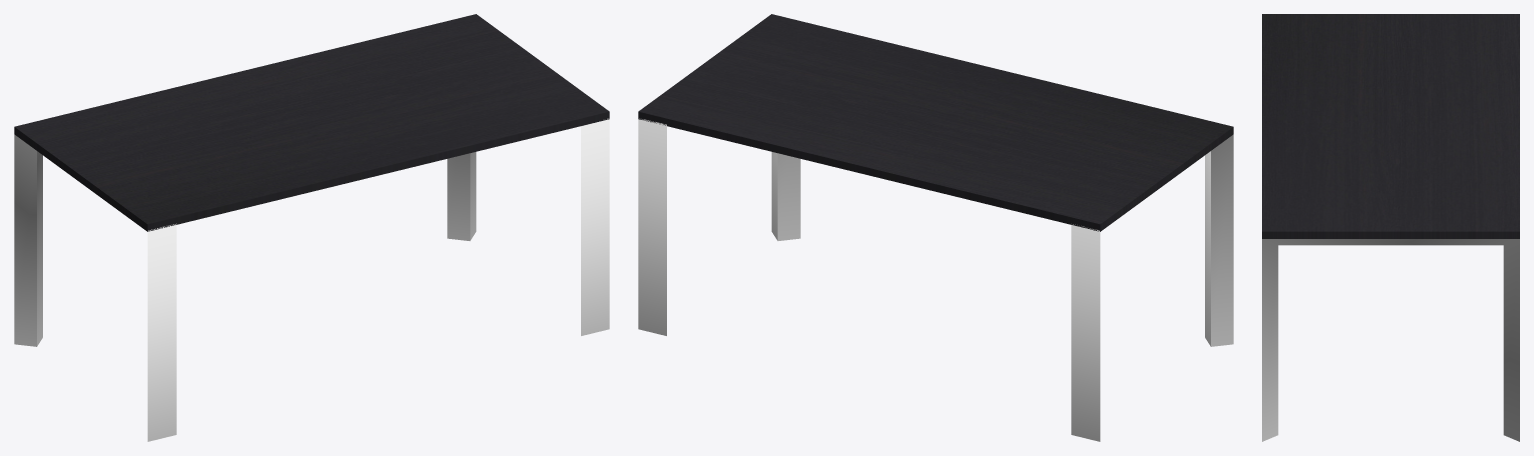
File: sweethome3d-lucapresidente-desk.glb
3 views of the same model, side by side, from view 1: azimuth 30°, elevation 25°; view 2: azimuth 150°, elevation 25°; view 3: azimuth 270°, elevation 25° (orthographic). The views are drawn at different scales.
Parts seen in each view (by area): view 1: Box34_4, Loft01_2, Loft02_1; view 2: Box34_4, Loft01_2, Loft02_1; view 3: Box34_4, Loft02_1.
Part boxes in pixels (left/top/right/bottom): Box34_4: left=14, top=14, right=609, bottom=231; Loft01_2: left=14, top=134, right=176, bottom=441; Loft02_1: left=447, top=118, right=609, bottom=335; Box34_4: left=638, top=14, right=1233, bottom=231; Loft01_2: left=1071, top=134, right=1233, bottom=441; Loft02_1: left=638, top=118, right=800, bottom=335; Box34_4: left=1262, top=14, right=1519, bottom=238; Loft02_1: left=1262, top=239, right=1519, bottom=441.
Bounding box in the file's own units: 160 × 72 × 80.
Materials: 3 (1 with a texture image).
